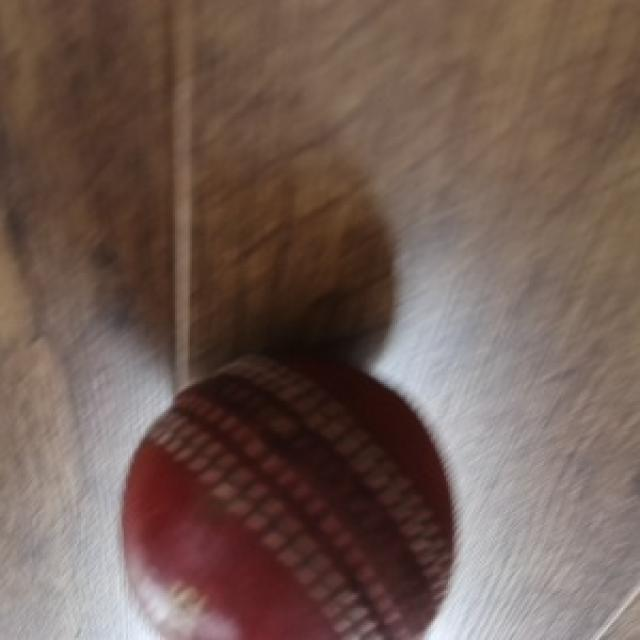ball: (119, 352, 457, 640)
